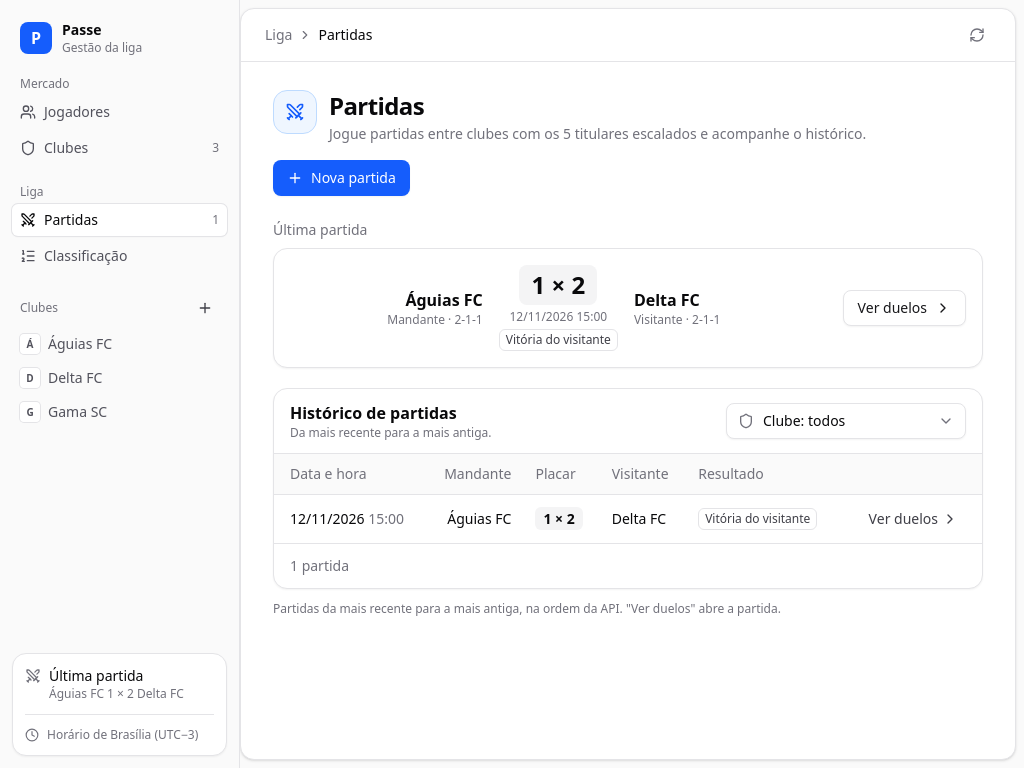
Nova partida › mostra o message da API quando um clube não tem escalação completa
The width and height of the screenshot is (1024, 768).
Click the button "Nova partida" at (341, 178), box [273,160,410,196]
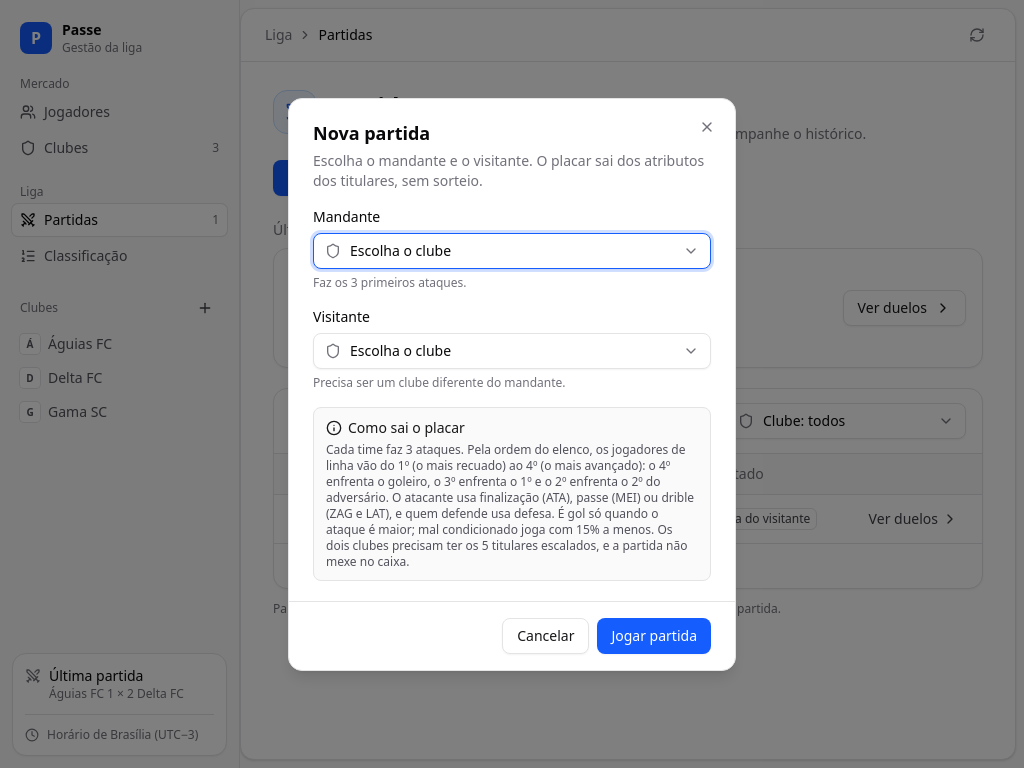
Select "Gama SC (GAM)" in the dropdown labelled "Mandante" at (512, 250), box [313,232,711,268]
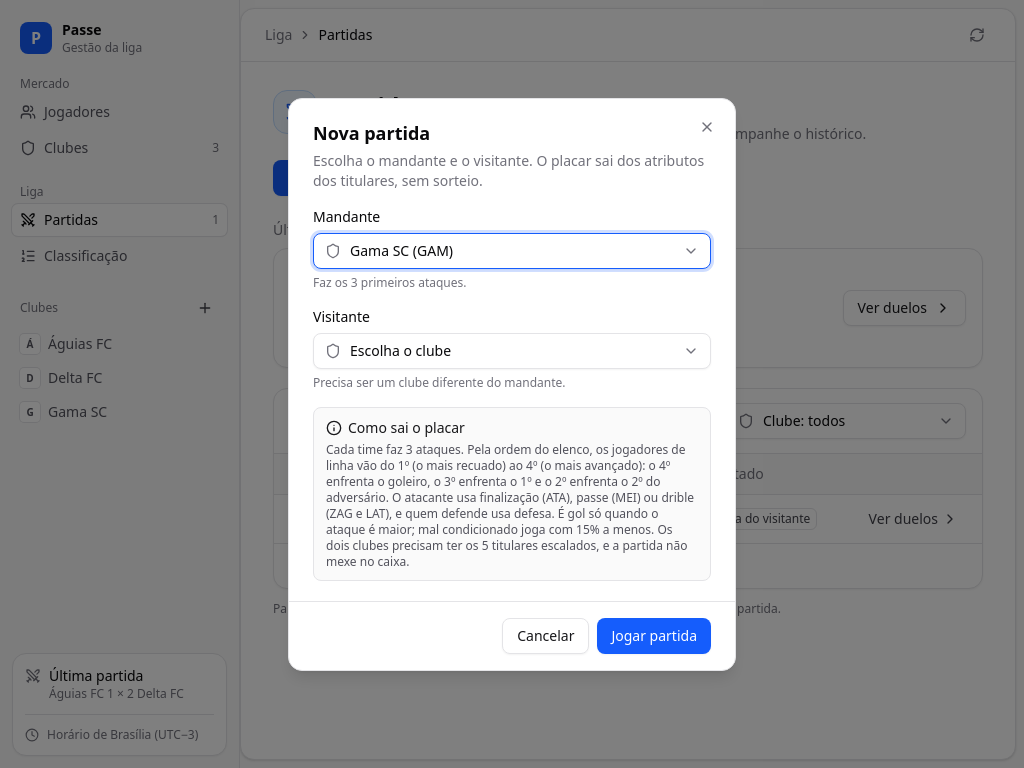
Select "Águias FC (AGU)" in the dropdown labelled "Visitante" at (512, 350), box [313,332,711,368]
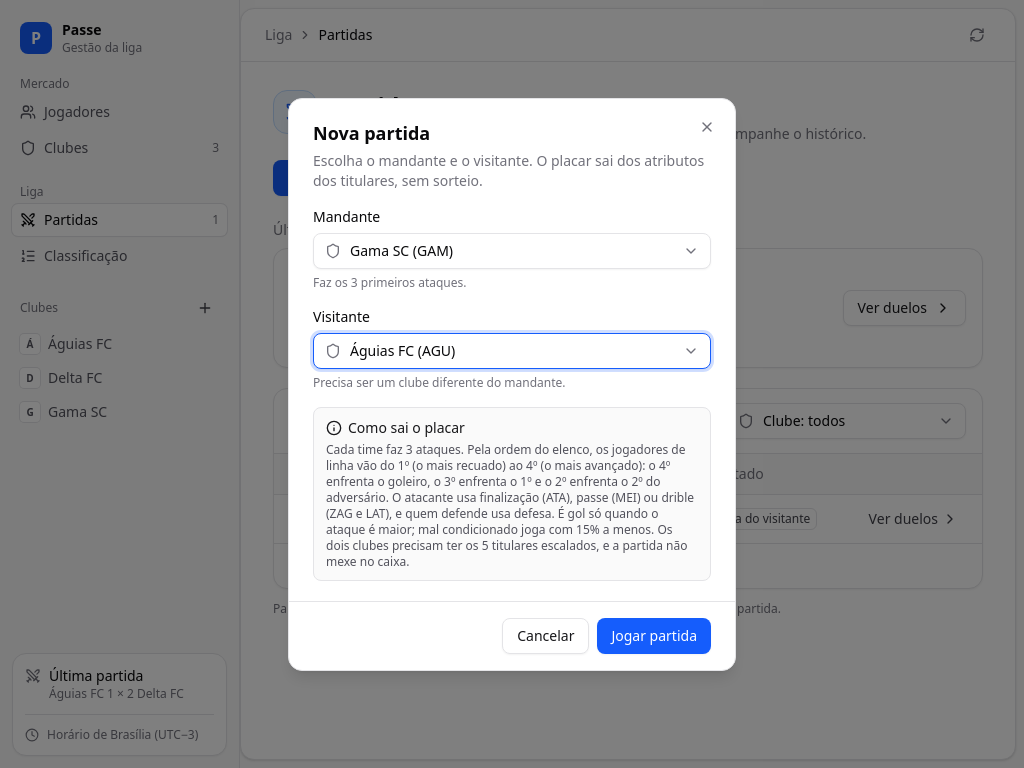
Click the button "Jogar partida" at (654, 636), box [597,618,711,654]
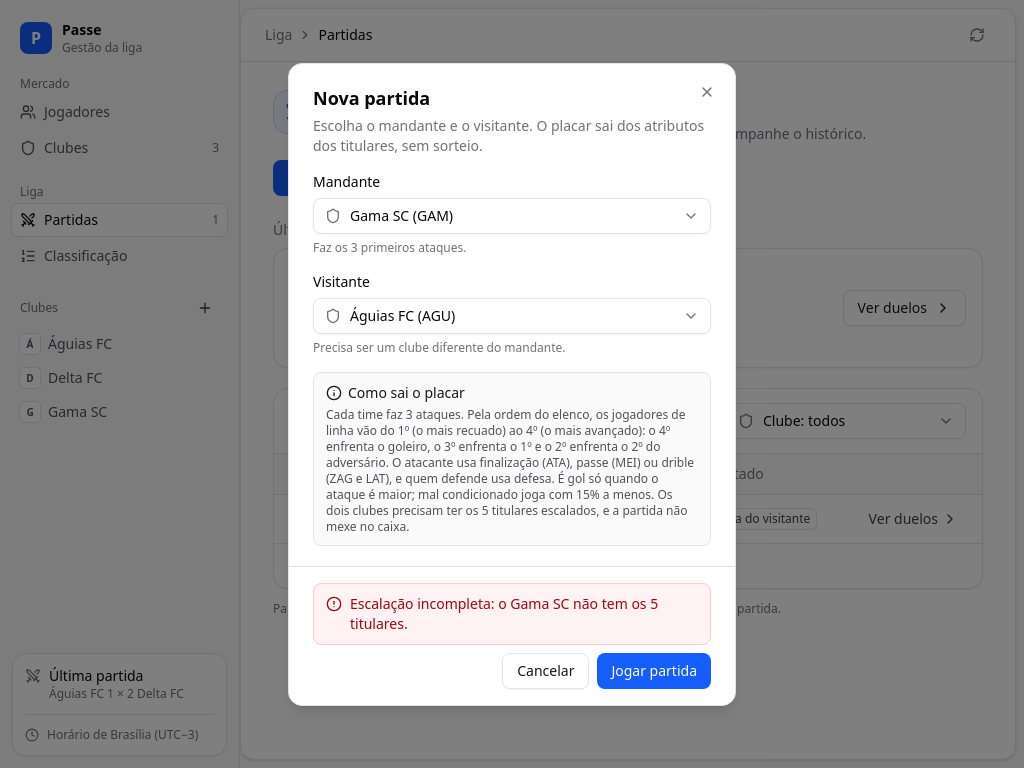
Expected: the message reads "Escalação incompleta: o Gama SC não tem os 5 titulares.", [350,594,658,632]
